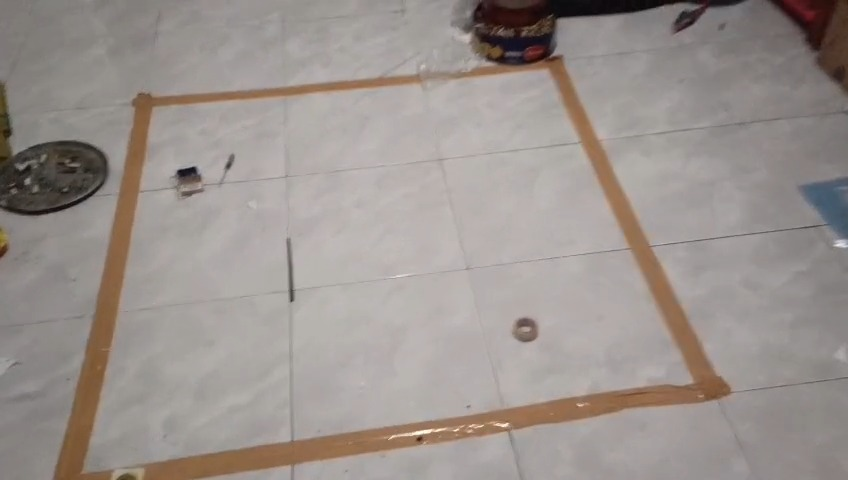floor marking: (138, 57, 729, 479), (54, 76, 421, 479)
